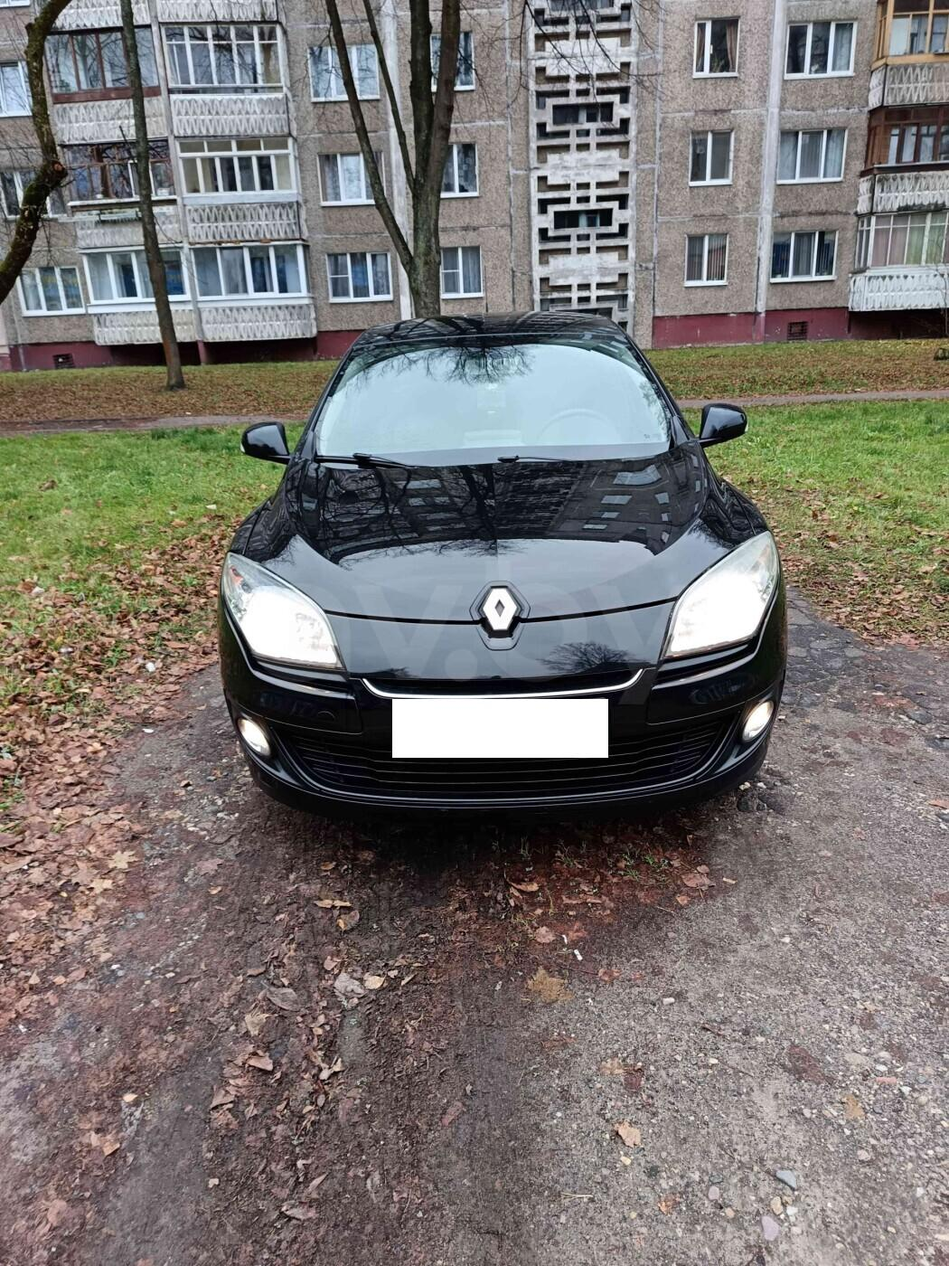Megane_2008-2014: (217, 313, 792, 830)
